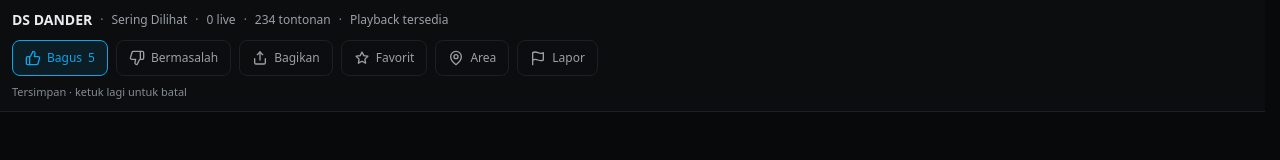
CameraDetailPanel — the vote still behaves, and still says so › takes the hint away again when the visitor withdraws the vote
The image size is (1280, 160).
Check: the text "Tersimpan · ketuk lagi untuk batal" is shown, box [12, 84, 187, 99]
Click the button with test id "camera-reaction-like": [60, 58] box [12, 40, 108, 76]
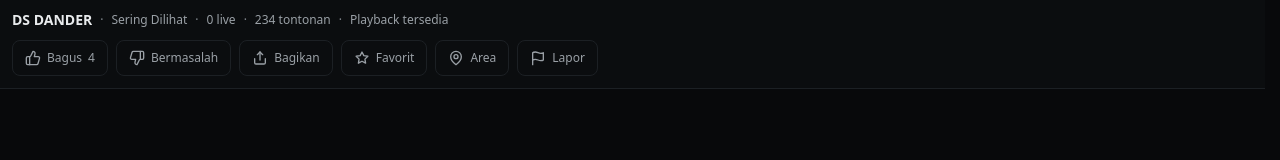
Check: the text "Tersimpan" is gone
